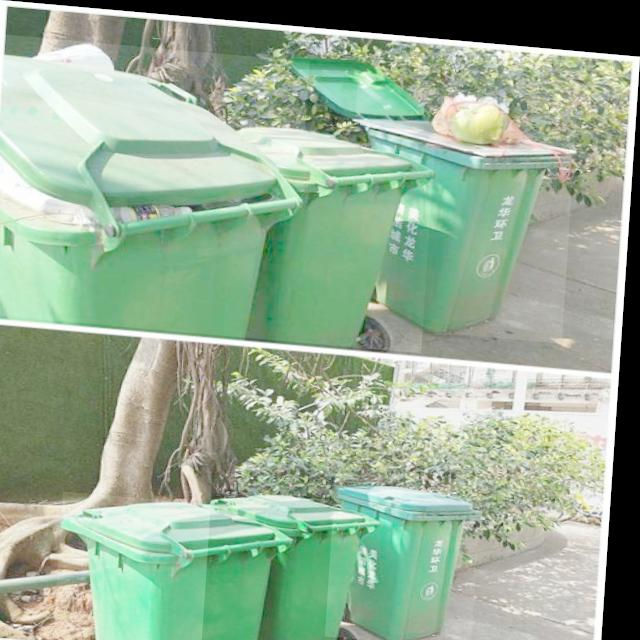garbage_bin: (228, 119, 436, 345), (62, 490, 301, 640), (210, 483, 388, 640), (333, 474, 488, 640)
overflow: (0, 34, 311, 336), (346, 74, 578, 333)
